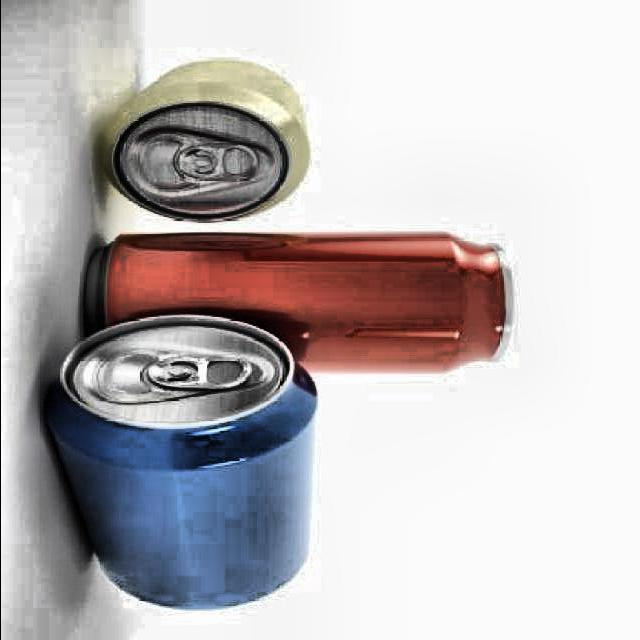litter: (44, 310, 321, 613), (76, 230, 516, 379), (84, 58, 311, 227)
